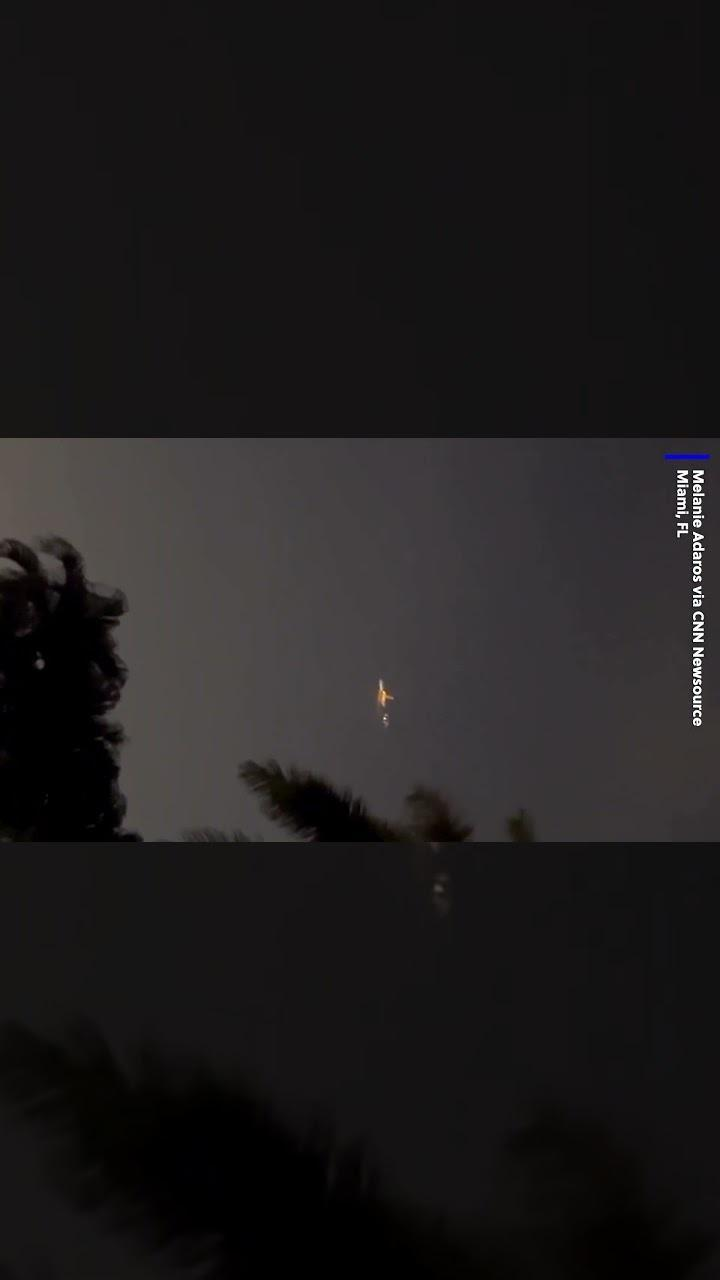Plane: (360, 665, 409, 740)
